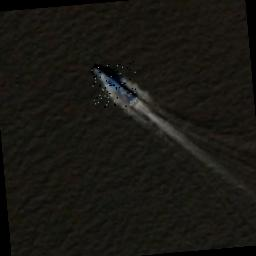boat: (90, 62, 138, 108)
